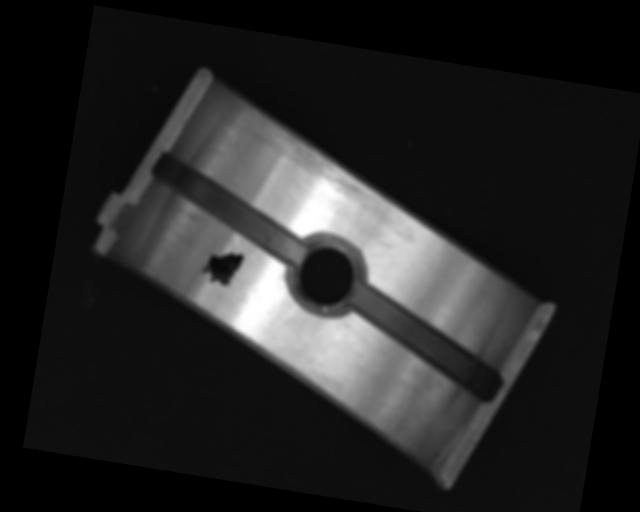blot: (197, 245, 245, 289)
gap: (339, 282, 511, 401), (142, 150, 316, 263)
hole: (283, 228, 371, 320)
scratch: (233, 106, 396, 203)
